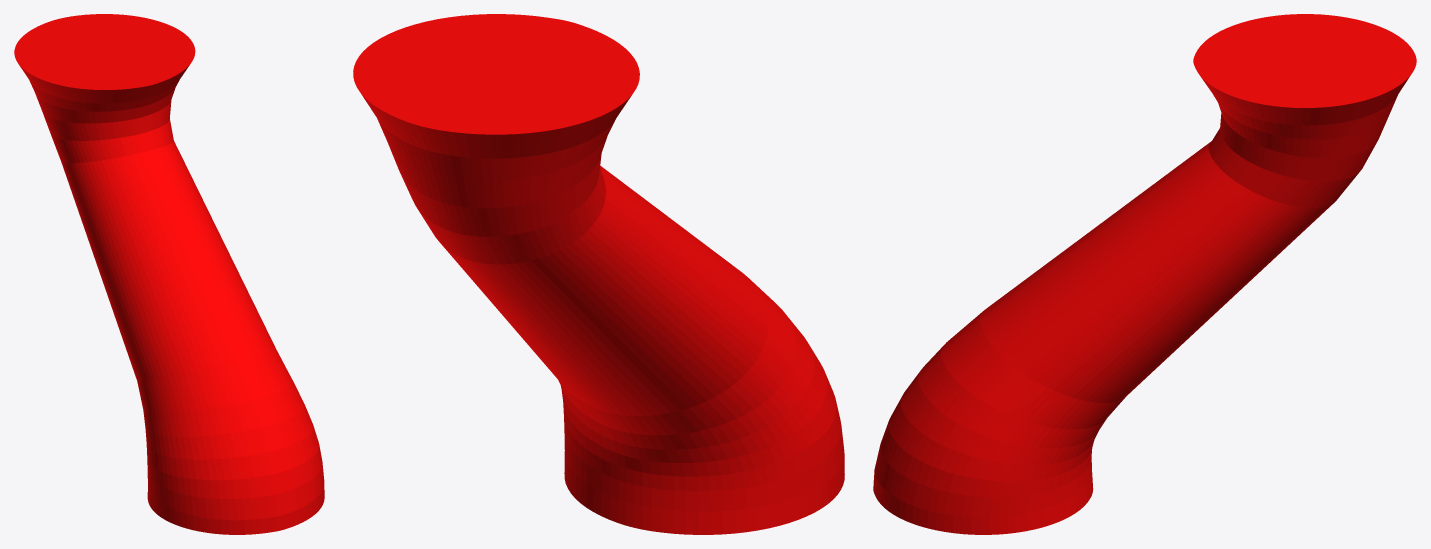
The picture shows the model from 3 angles, left to right: view 1: azimuth 30°, elevation 25°; view 2: azimuth 150°, elevation 25°; view 3: azimuth 270°, elevation 25°; orthographic projection. The views are drawn at different scales.
Visible parts, largest first — view 1: MF0609_4_0; view 2: MF0609_4_0; view 3: MF0609_4_0.
Boxes of the visible parts, x1,y1,x2,y2 form: MF0609_4_0: [14, 14, 324, 534]; MF0609_4_0: [353, 14, 844, 534]; MF0609_4_0: [873, 14, 1416, 534].
Size of the model in its own units: 101 by 245 by 213.
